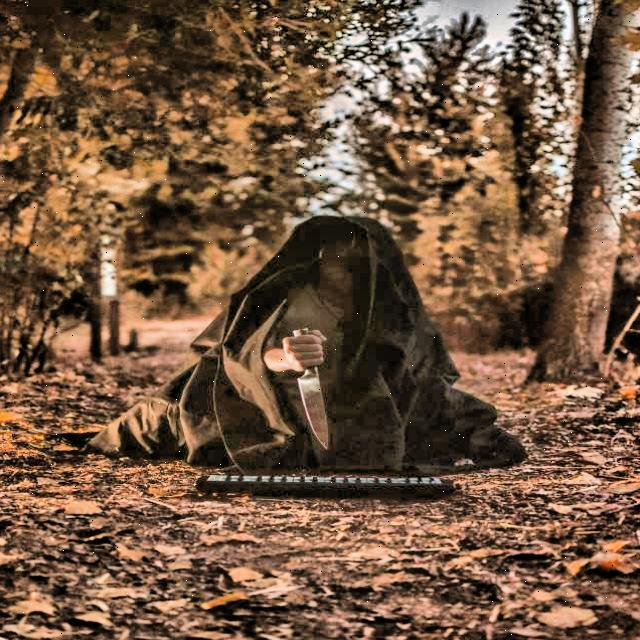knife: (289, 321, 346, 451)
